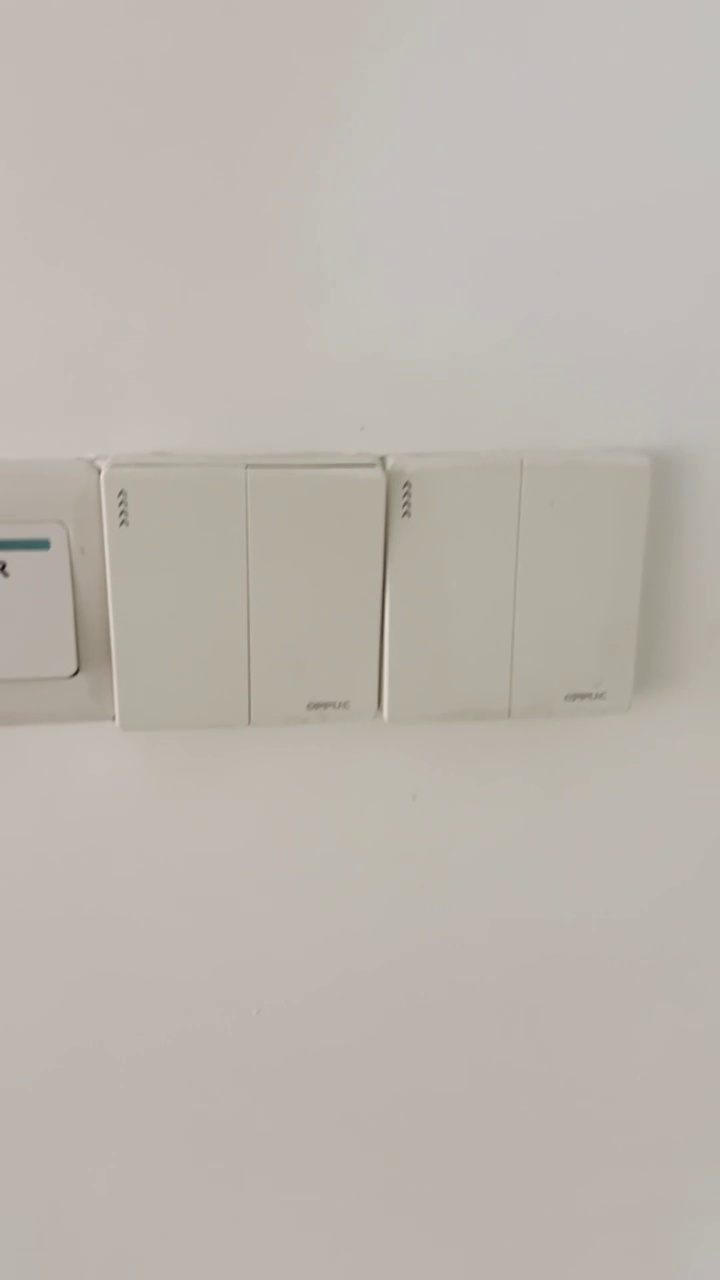button1: (107, 471, 244, 734), (520, 459, 645, 717), (390, 463, 512, 721), (251, 469, 372, 720)
